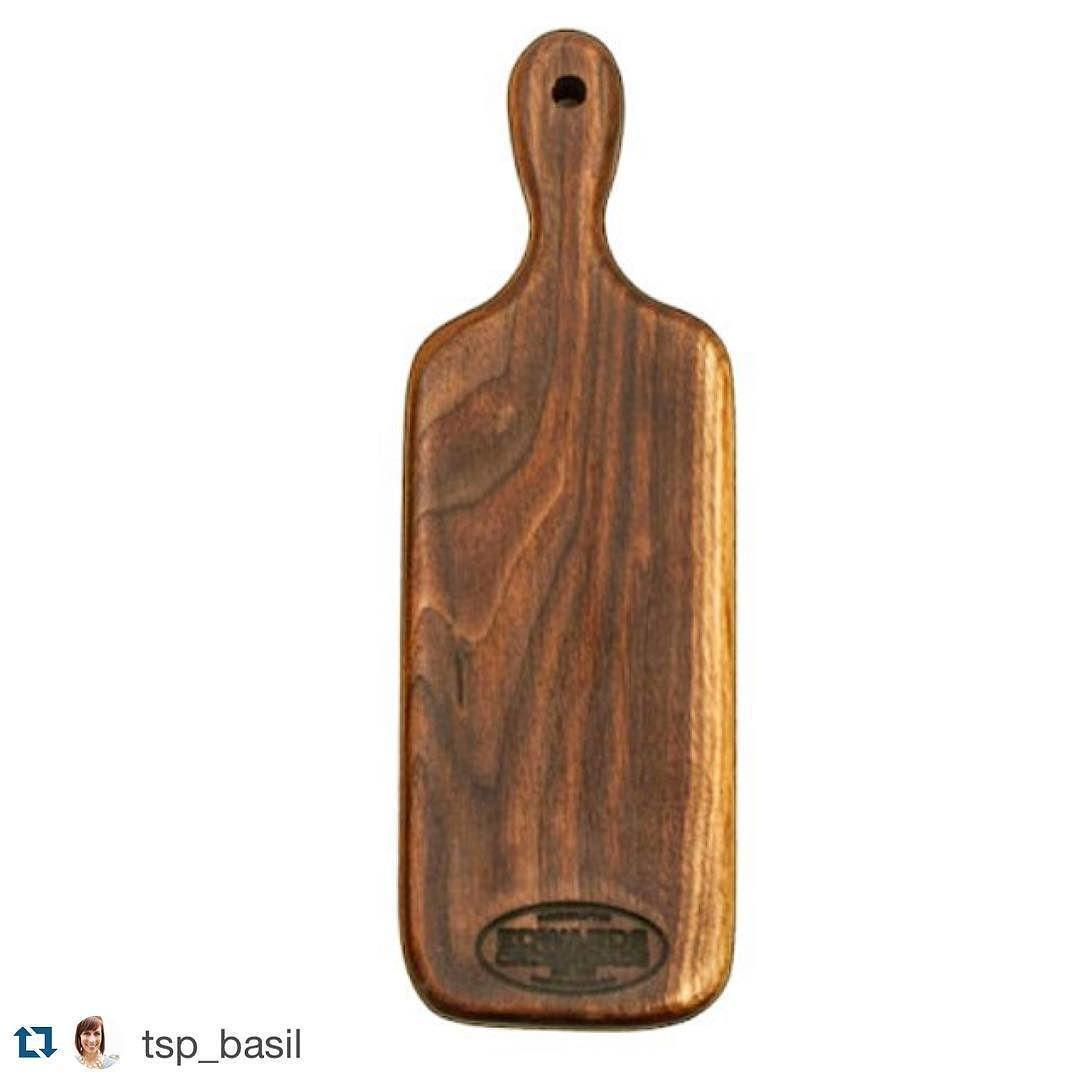gloved_hand: (386, 13, 767, 1037)
